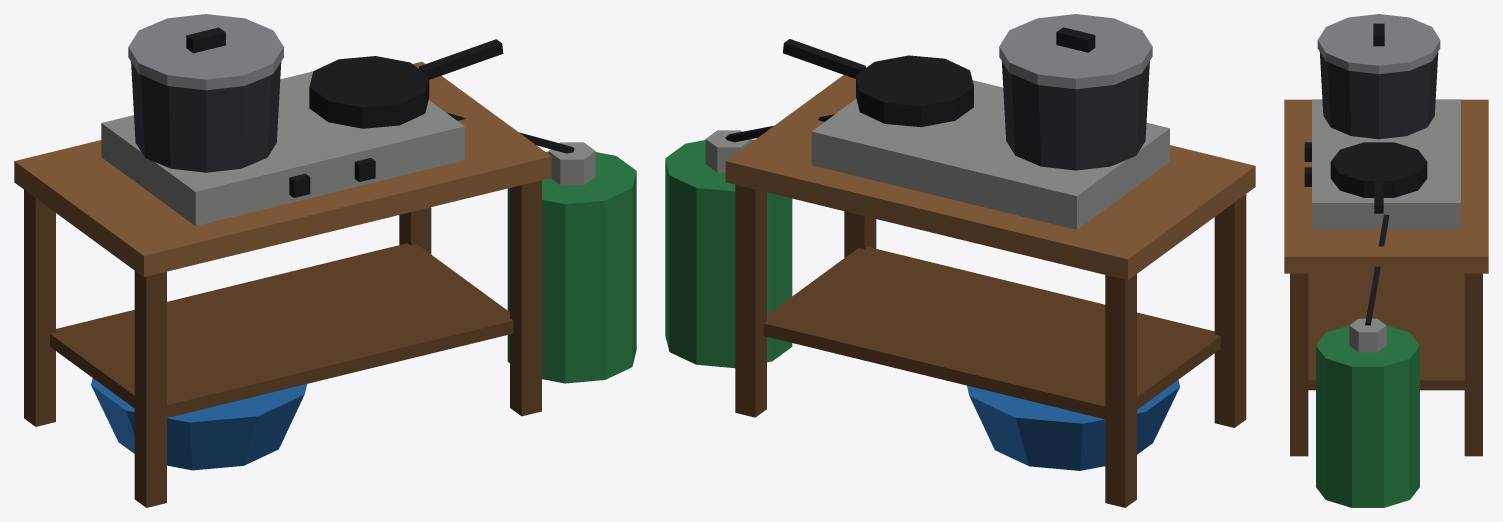
Rendered from prop_cooking-corner.glb.
3 views of the same model, side by side, from view 1: azimuth 30°, elevation 25°; view 2: azimuth 150°, elevation 25°; view 3: azimuth 270°, elevation 25° (orthographic). The views are drawn at different scales.
Visible parts, largest first — view 1: body; view 2: body; view 3: body.
Boxes of the visible parts, left/top/right/bottom form: body: left=14, top=14, right=636, bottom=507; body: left=665, top=14, right=1255, bottom=507; body: left=1284, top=14, right=1488, bottom=507.
Bounding box in the file's own units: 1.31 × 0.947 × 0.55.
